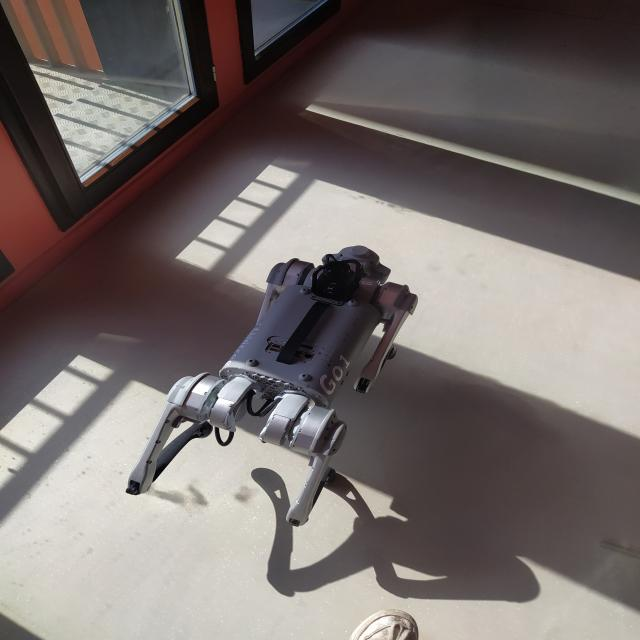unitree-go1-robot: (122, 241, 432, 537)
